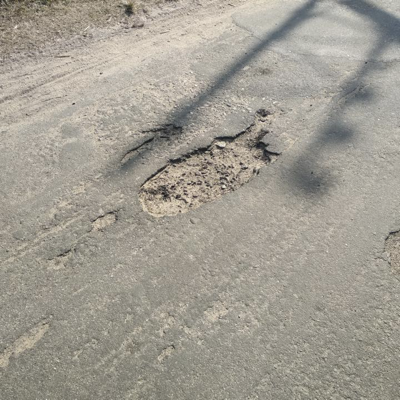pothole: (140, 107, 283, 221), (0, 313, 57, 368), (119, 122, 185, 168), (87, 209, 123, 233), (383, 229, 400, 278)
